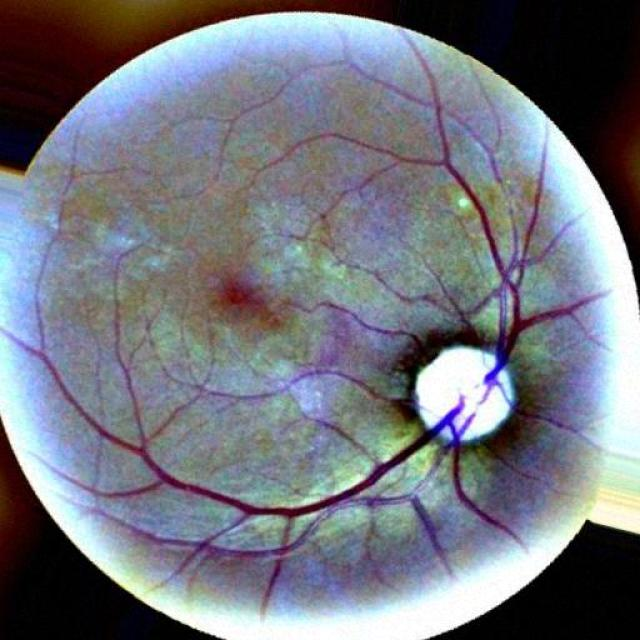Macula: (206, 272, 277, 337)
Nerves: (132, 414, 456, 525), (438, 161, 524, 370)
Optic Disk: (404, 345, 513, 446)
